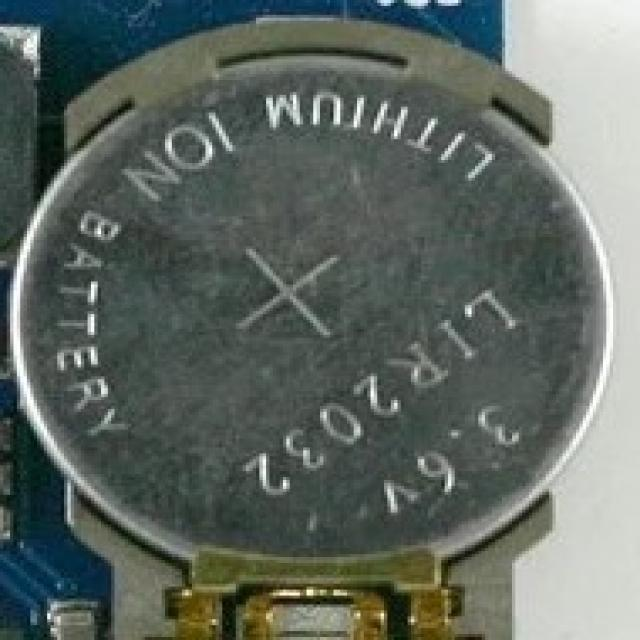battery: (9, 53, 622, 566)
